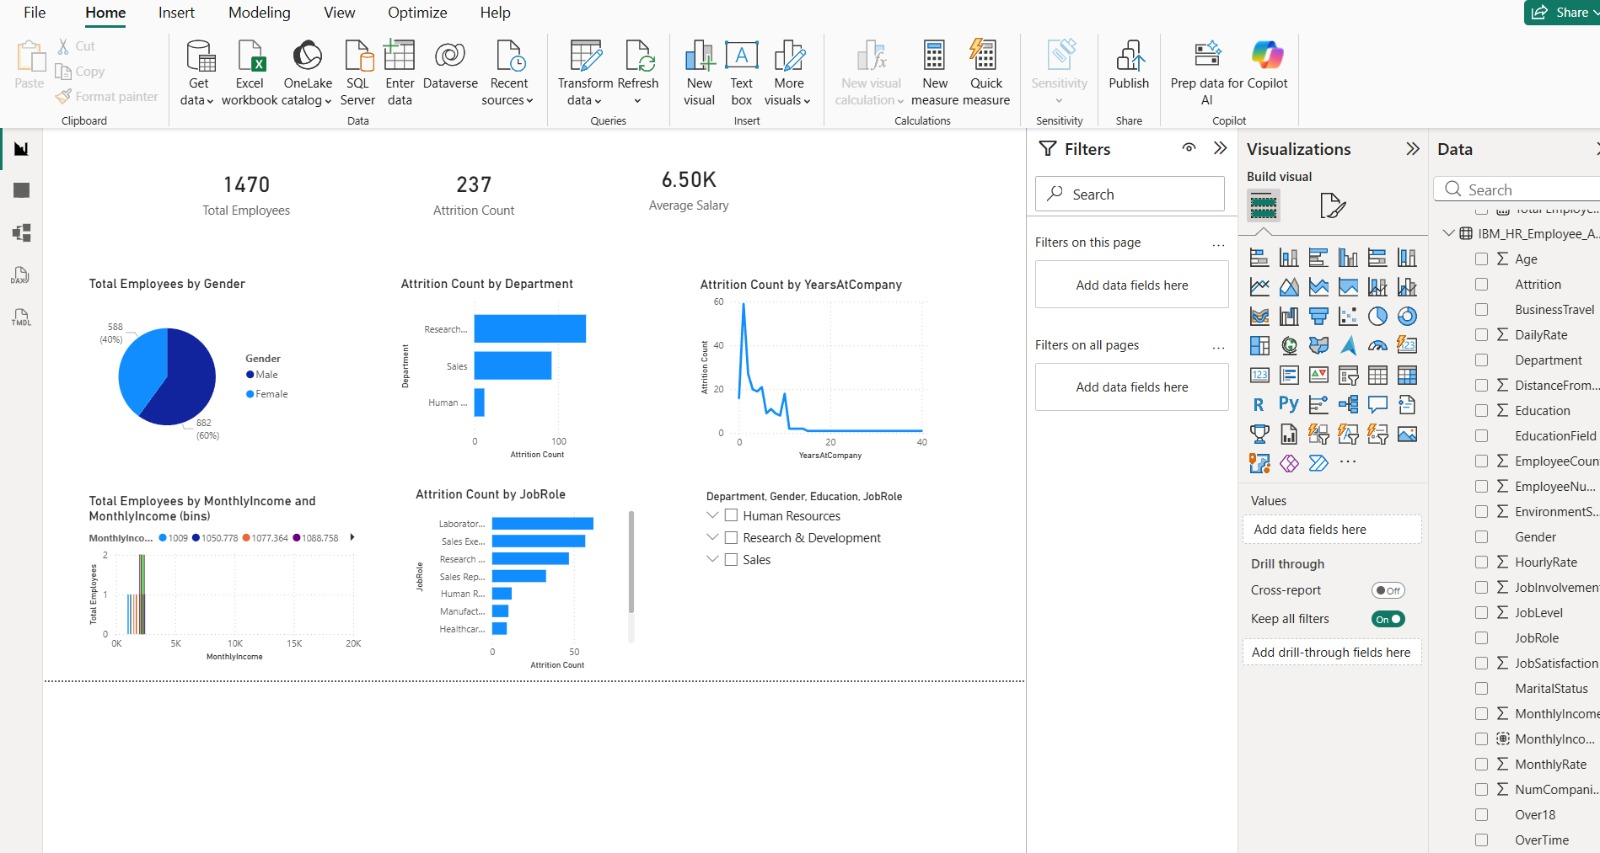

What the dashboard file says about the page in this screenshot:
{"tool":"powerbi","page":{"name":"Page 2","canvas":[1280,720],"ordinal":1},"visuals":[{"type":"card","fields":{"Values":["BaseMeasures.Total Employees"]},"box":[124.9,0,279.9,164.7],"z":0},{"type":"card","fields":{"Values":["BaseMeasures.Attrition Count"]},"box":[421.3,0,279.9,164.7],"z":1000},{"type":"card","fields":{"Values":["BaseMeasures.Average Salary"]},"box":[701.2,0,279.9,150.9],"z":2000},{"type":"pieChart","fields":{"Category":["IBM_HR_Employee_Attrition_Data.Gender"],"Y":["BaseMeasures.Total Employees"]},"box":[54.9,192.1,279.9,245.6],"z":3000},{"type":"barChart","fields":{"Category":["IBM_HR_Employee_Attrition_Data.Department"],"Y":["BaseMeasures.Attrition Count"]},"box":[461.1,192.1,279.9,244.3],"z":4000},{"type":"lineChart","fields":{"Y":["BaseMeasures.Attrition Count"],"Category":["IBM_HR_Employee_Attrition_Data.YearsAtCompany"]},"box":[850.8,193.5,308.7,244.3],"z":5000},{"type":"columnChart","fields":{"Y":["BaseMeasures.Total Employees"],"Category":["IBM_HR_Employee_Attrition_Data.MonthlyIncome"],"Series":["IBM_HR_Employee_Attrition_Data.MonthlyIncome (bins)"]},"box":[54.9,476.2,365,223.7],"z":6000},{"type":"barChart","fields":{"Category":["IBM_HR_Employee_Attrition_Data.JobRole"],"Y":["BaseMeasures.Attrition Count"]},"box":[480.3,466.6,295,244.3],"z":7000},{"type":"slicer","fields":{"Values":["IBM_HR_Employee_Attrition_Data.Department","IBM_HR_Employee_Attrition_Data.Gender","IBM_HR_Employee_Attrition_Data.Education","IBM_HR_Employee_Attrition_Data.JobRole"]},"box":[850.8,466.6,308.7,225],"z":8000}]}

Visuals, with their boxes on the page's 1280x720 design canvas (x1, y1, x2, y2). These are canvas units, not pixel positions in the 1600x853 screenshot, which may show the page scaled, cropped or inside an application window:
card - BaseMeasures.Total Employees: <box>125,0,405,165</box>
card - BaseMeasures.Attrition Count: <box>421,0,701,165</box>
card - BaseMeasures.Average Salary: <box>701,0,981,151</box>
pieChart - IBM_HR_Employee_Attrition_Data.Gender x BaseMeasures.Total Employees: <box>55,192,335,438</box>
barChart - IBM_HR_Employee_Attrition_Data.Department x BaseMeasures.Attrition Count: <box>461,192,741,436</box>
lineChart - BaseMeasures.Attrition Count x IBM_HR_Employee_Attrition_Data.YearsAtCompany: <box>851,194,1160,438</box>
columnChart - BaseMeasures.Total Employees x IBM_HR_Employee_Attrition_Data.MonthlyIncome: <box>55,476,420,700</box>
barChart - IBM_HR_Employee_Attrition_Data.JobRole x BaseMeasures.Attrition Count: <box>480,467,775,711</box>
slicer - IBM_HR_Employee_Attrition_Data.Department x IBM_HR_Employee_Attrition_Data.Gender: <box>851,467,1160,692</box>
